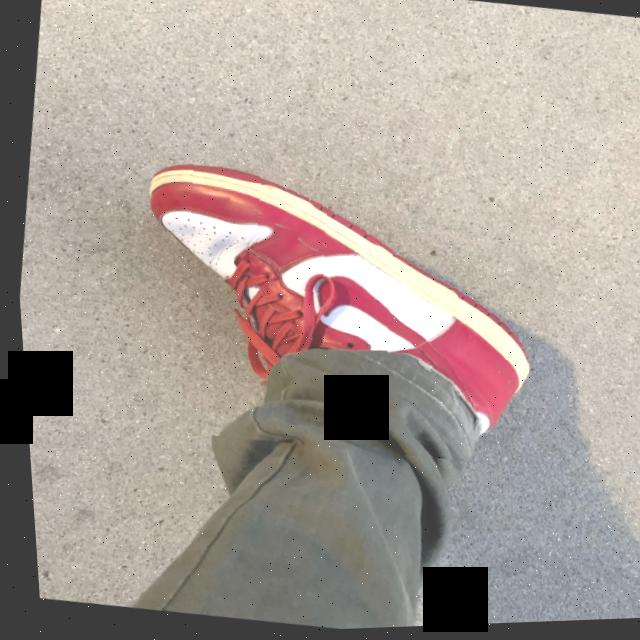shoe: (49, 94, 599, 490)
